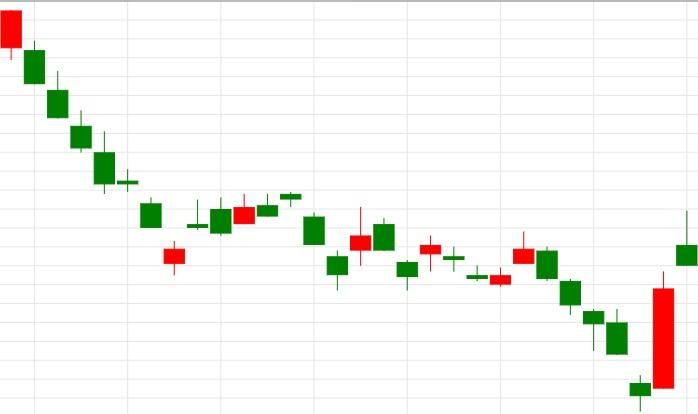shooting_star_fall: (629, 211, 698, 411)
three_black_crows_fall: (163, 192, 349, 291), (489, 231, 605, 351)
